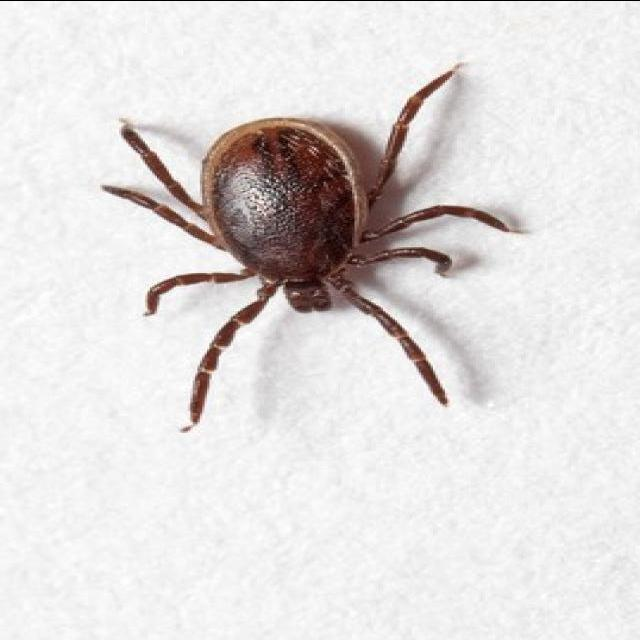Ixodes Ricinus-M: (100, 62, 523, 430)
